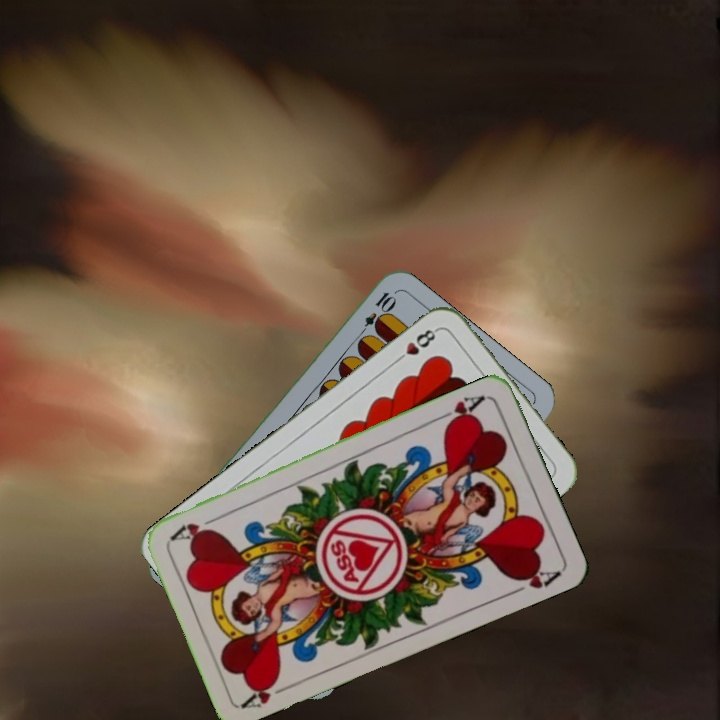E10: (354, 287, 398, 341)
H8: (391, 324, 441, 366)
HA: (434, 391, 490, 431), (239, 673, 296, 712)
